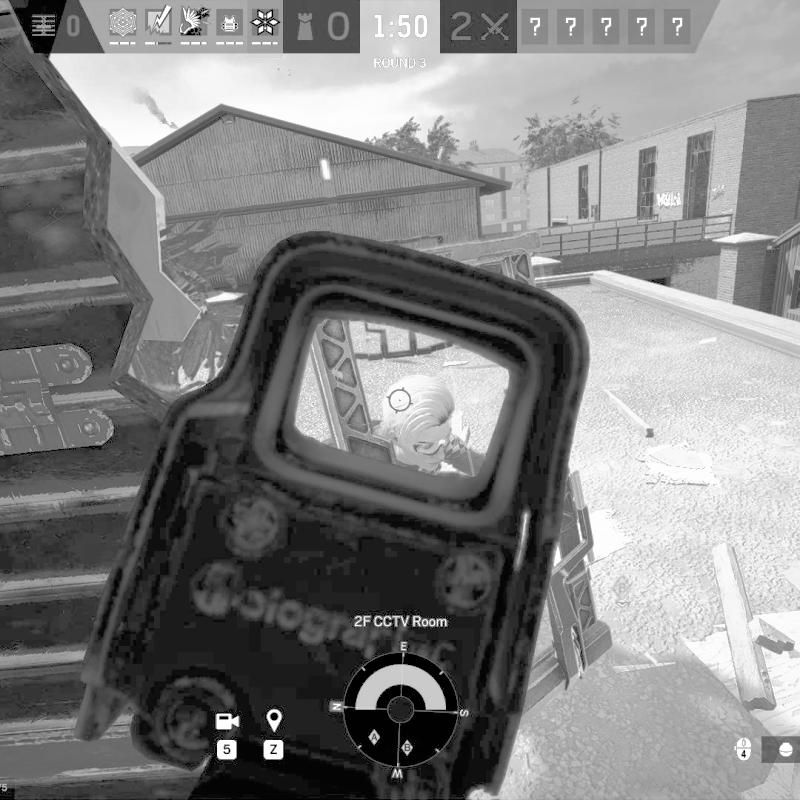Character: (370, 372, 488, 478)
Head: (384, 374, 458, 473)
